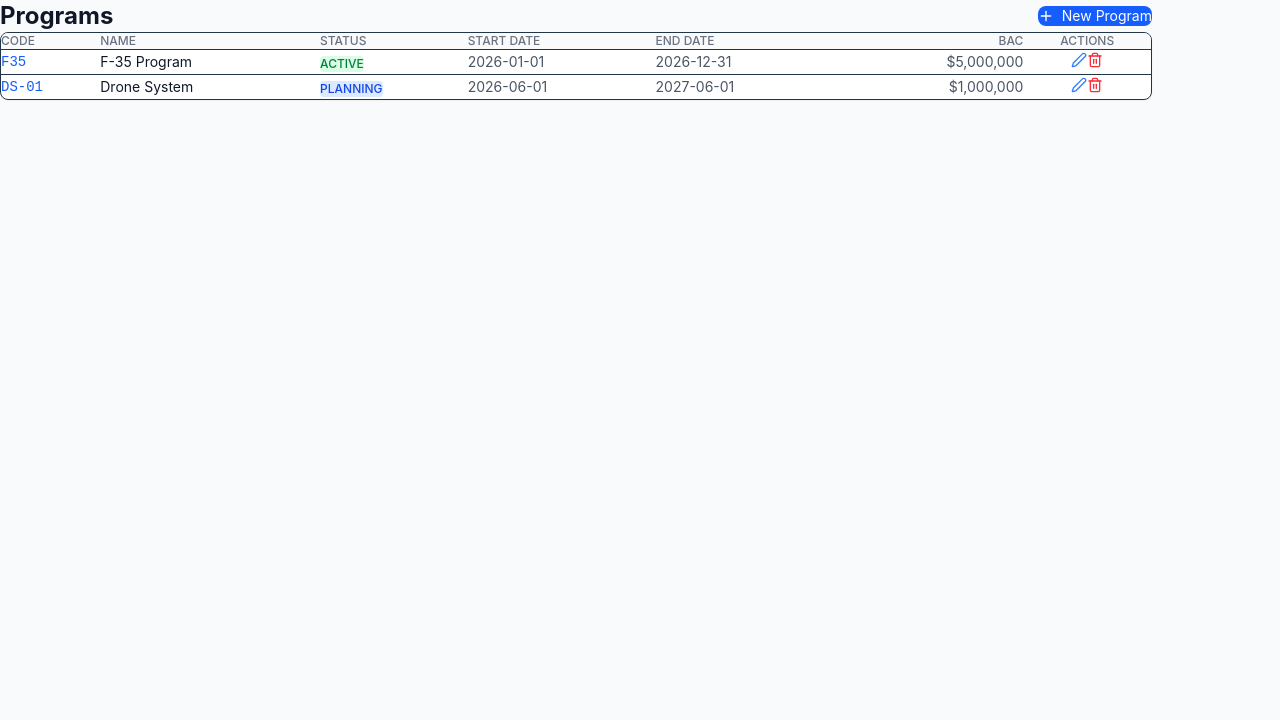
Test: ProgramsPage › edit program › submits edit form and shows success toast
This screenshot has width=1280, height=720.
Click the button titled "Edit" in the row of "F35". click: (1079, 60)
box: [1071,52,1087,68]
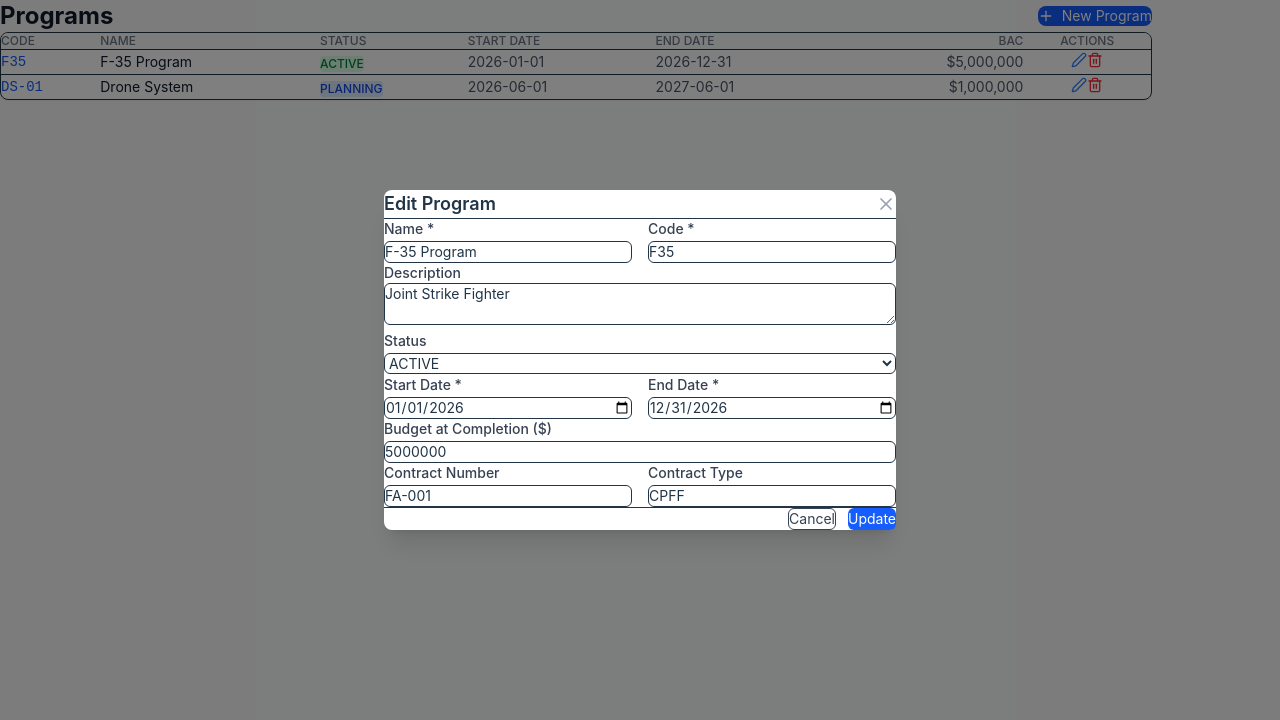
Replace the text in the field labelled "Name *" with "F-35 Updated". click: (508, 252)
box: [384,241,632,263]
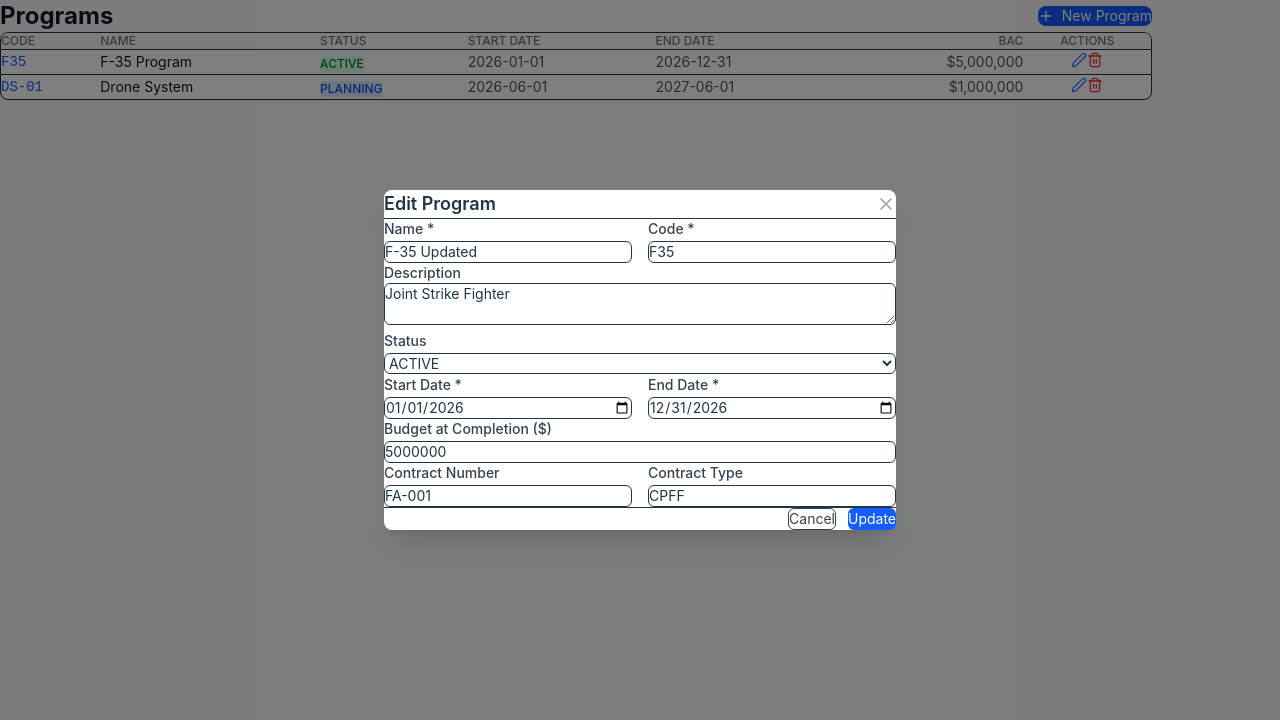
Click the button "Update". click: (872, 519)
box: [848,508,896,530]
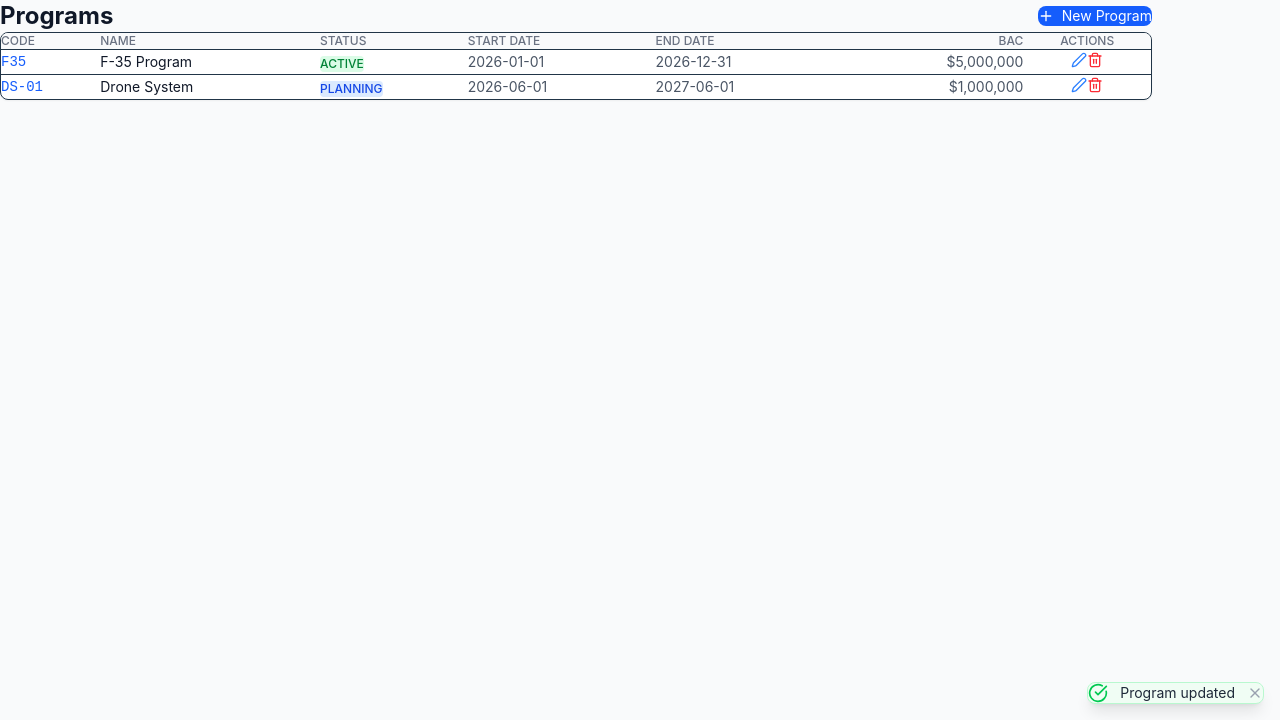
Now the text "Program updated" is shown, box [1120,683,1235,703]
